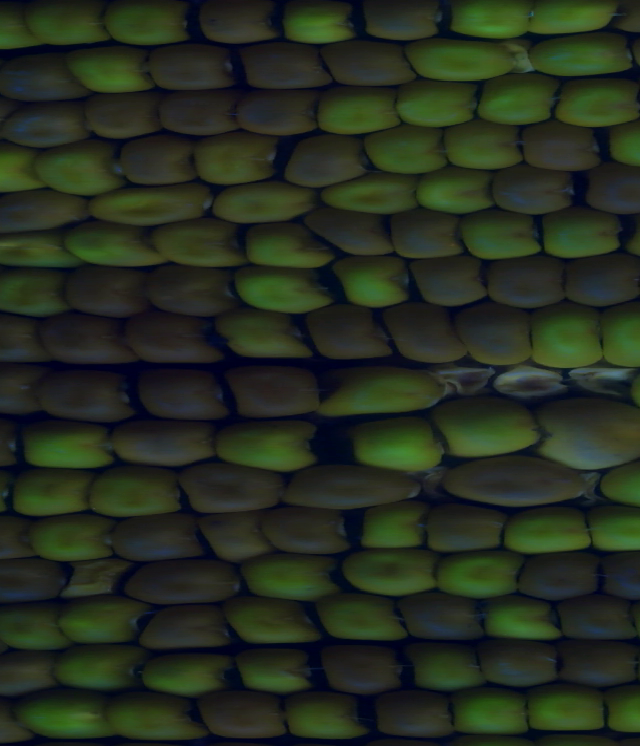fluorescent: (315, 367, 456, 422), (432, 392, 538, 461), (343, 417, 446, 473), (223, 262, 331, 315), (215, 310, 313, 362), (239, 550, 341, 599), (552, 77, 640, 133), (362, 122, 453, 174), (189, 135, 283, 185), (498, 510, 604, 554), (102, 700, 202, 746), (404, 40, 516, 81), (342, 552, 436, 600), (312, 88, 404, 137), (94, 467, 189, 514), (152, 221, 245, 269), (395, 83, 480, 135), (34, 147, 120, 198), (530, 304, 599, 366), (480, 72, 550, 133), (528, 39, 632, 80), (143, 648, 228, 698), (316, 596, 405, 643), (220, 428, 319, 470), (536, 213, 628, 258), (279, 694, 371, 739), (325, 177, 428, 217), (23, 522, 121, 563), (20, 699, 115, 741), (65, 600, 143, 651), (217, 607, 317, 646), (473, 600, 569, 640), (9, 476, 95, 520), (23, 422, 109, 466), (423, 169, 497, 220), (353, 502, 428, 552), (38, 1, 110, 52), (104, 1, 182, 48), (213, 183, 312, 220), (271, 1, 358, 43), (343, 259, 409, 314), (439, 551, 521, 595), (447, 1, 541, 39), (0, 270, 71, 320), (90, 187, 204, 218), (461, 214, 535, 261), (530, 1, 626, 37), (72, 54, 153, 96), (412, 648, 489, 692), (450, 125, 520, 173), (243, 229, 321, 272), (231, 651, 309, 694), (527, 694, 608, 733), (452, 695, 530, 735), (68, 232, 153, 267), (0, 232, 80, 269), (57, 654, 142, 688), (597, 310, 640, 372), (601, 450, 640, 517), (0, 613, 67, 651), (0, 1, 49, 51), (0, 146, 38, 202), (591, 514, 640, 555), (597, 121, 640, 166), (608, 691, 640, 735)
nonfluorescent: (446, 452, 587, 507), (539, 388, 640, 463), (130, 357, 241, 421), (446, 303, 541, 369), (482, 159, 579, 217), (283, 472, 416, 513), (386, 303, 472, 365), (41, 365, 136, 421), (306, 206, 405, 258), (241, 359, 324, 421), (138, 40, 242, 89), (395, 588, 486, 643), (124, 318, 220, 369), (57, 263, 152, 314), (119, 559, 249, 596), (564, 246, 640, 309), (183, 461, 289, 506), (117, 418, 216, 465), (382, 209, 478, 257), (0, 52, 83, 106), (152, 265, 242, 314), (493, 254, 569, 311), (519, 117, 601, 169), (282, 137, 367, 187), (265, 507, 353, 555), (405, 257, 493, 304), (47, 304, 117, 363), (202, 692, 287, 740), (197, 1, 284, 47), (235, 92, 320, 139), (483, 640, 560, 691), (313, 302, 373, 366), (325, 41, 413, 84), (369, 689, 453, 733), (161, 94, 241, 139), (1, 106, 97, 143), (112, 517, 205, 555), (113, 137, 189, 183), (247, 50, 330, 92), (553, 599, 635, 641), (371, 2, 452, 44), (323, 641, 404, 683), (558, 641, 635, 684), (520, 552, 598, 594), (0, 200, 86, 236), (202, 514, 269, 557), (582, 169, 640, 217), (428, 504, 495, 544), (0, 362, 45, 421), (0, 557, 61, 598), (147, 611, 225, 643), (0, 315, 47, 363), (95, 96, 150, 135), (0, 654, 47, 694), (0, 517, 36, 562), (601, 555, 640, 595)
